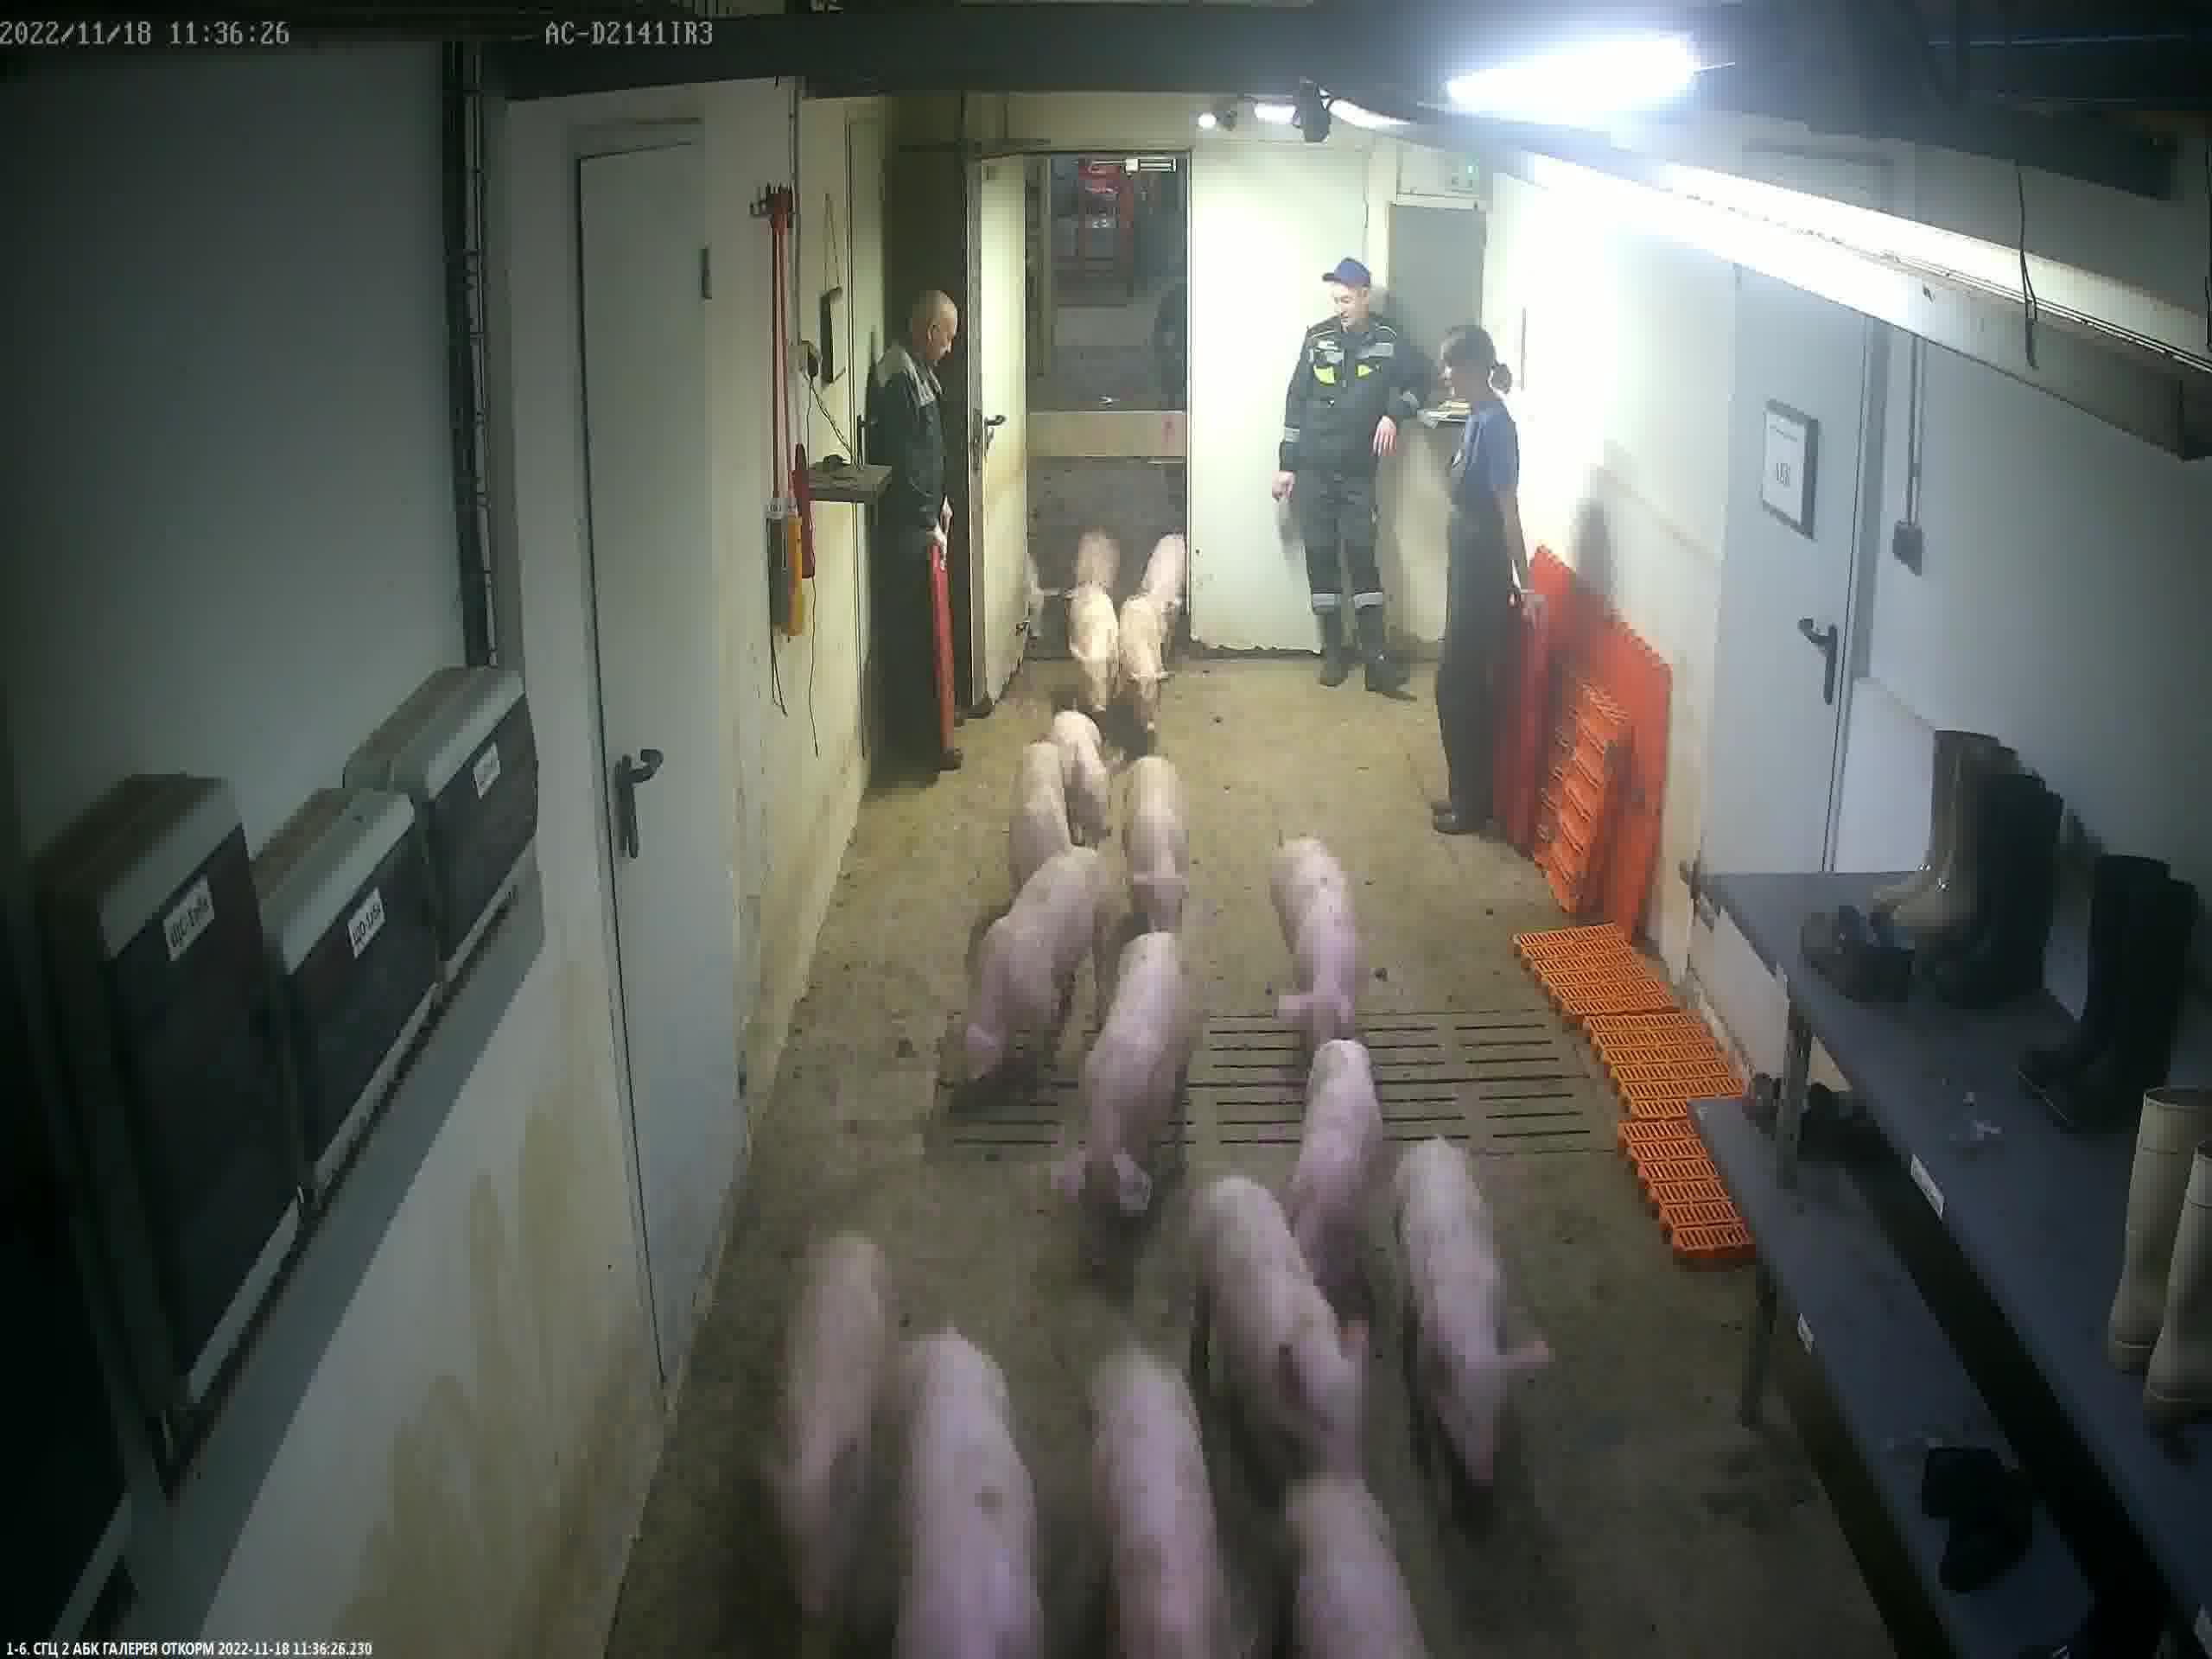Pigs: (1200, 1178, 1362, 1506), (773, 1244, 897, 1656), (1395, 1143, 1536, 1493), (906, 1337, 1045, 1659), (1092, 1351, 1228, 1659), (958, 849, 1129, 1084), (1073, 932, 1202, 1236), (1285, 1037, 1383, 1323), (1285, 1474, 1430, 1659), (1273, 838, 1360, 1061), (1134, 755, 1188, 936), (1050, 711, 1111, 845), (1010, 741, 1061, 871), (1120, 601, 1162, 735), (1078, 594, 1113, 713), (1146, 535, 1188, 622), (1073, 537, 1116, 599)
